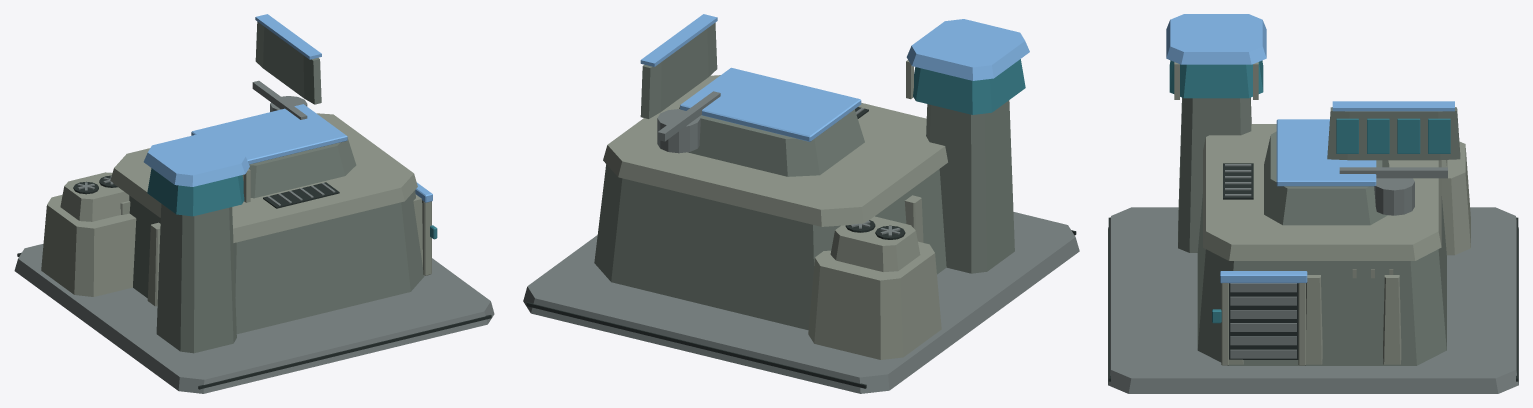
File: command_post.glb
The picture shows the model from 3 angles, left to right: view 1: azimuth 30°, elevation 25°; view 2: azimuth 150°, elevation 25°; view 3: azimuth 270°, elevation 25°; orthographic projection. The views are drawn at different scales.
Visible parts, largest first — view 1: command_post; view 2: command_post; view 3: command_post.
Part boxes in pixels (x1,y1,x2,y2): command_post: (14,14,494,393); command_post: (523,14,1079,393); command_post: (1108,14,1518,393).
Size of the model in its own units: 4.7 by 3.04 by 4.7.
